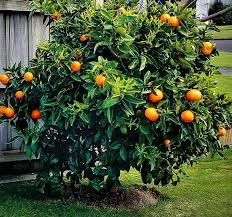orange: (146, 86, 164, 102), (184, 88, 203, 103), (145, 106, 160, 122), (181, 108, 194, 124)
